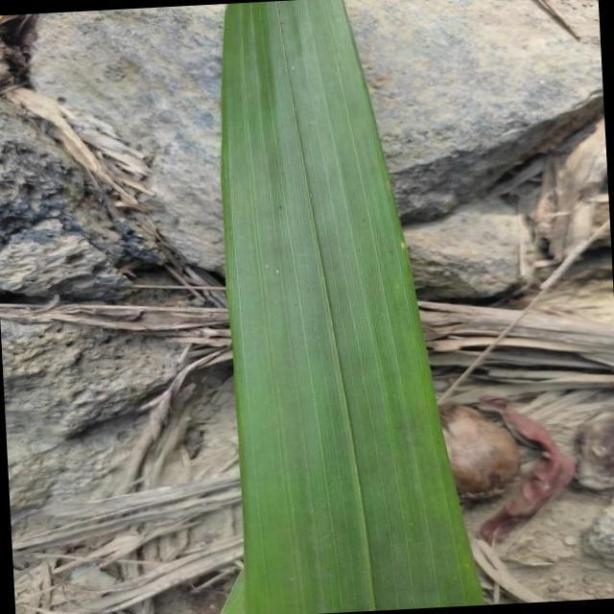Healthy: (222, 5, 480, 604)
